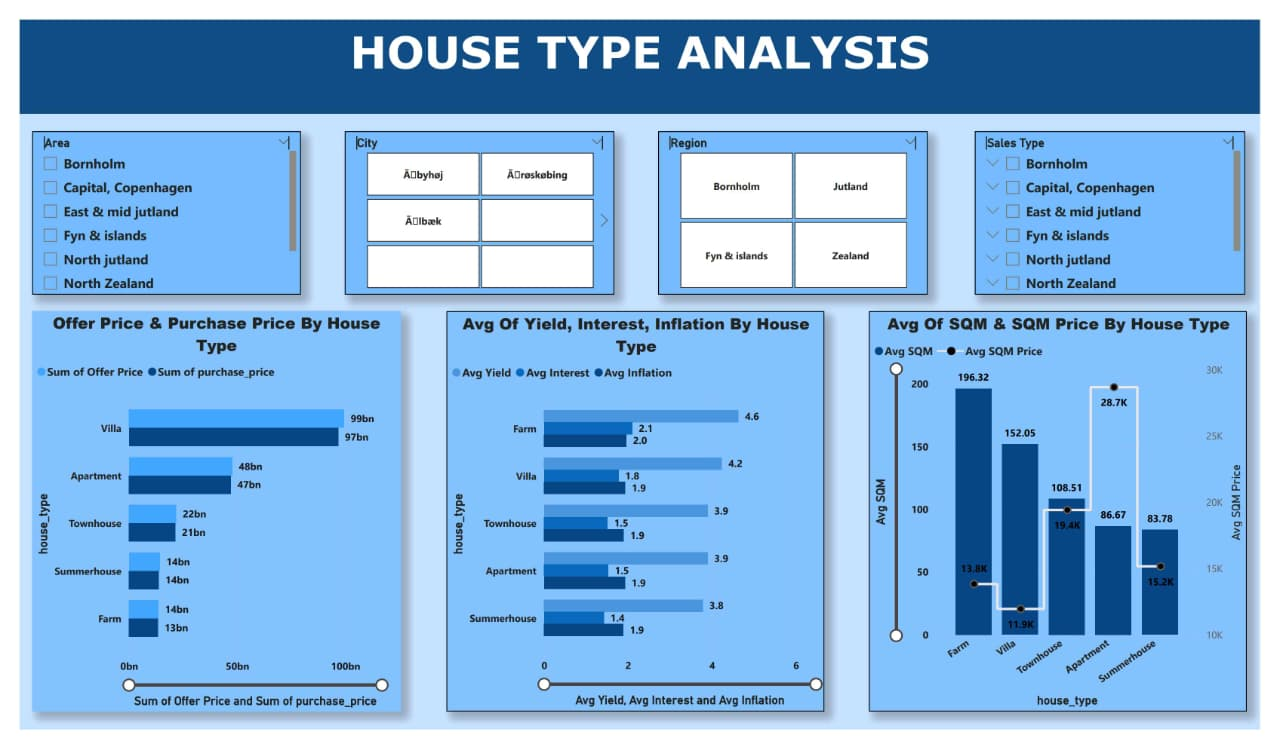

This screenshot's page, from the dashboard's own definition file:
{"tool":"powerbi","page":{"name":"House Type Analysis","canvas":[1500,860],"ordinal":2},"visuals":[{"type":"textbox","box":[0,0,1500,113.9],"z":0},{"type":"slicer","fields":{"Values":["Housing.area"]},"box":[14.6,135.4,325.7,197.6],"z":1000},{"type":"slicer","fields":{"Values":["Housing.city"]},"box":[393.4,135.4,325.7,197.6],"z":2000},{"type":"slicer","fields":{"Values":["Housing.region"]},"box":[772.2,135.4,325.7,197.6],"z":3000},{"type":"slicer","fields":{"Values":["Housing.area","Housing.sales_type"]},"box":[1154.6,135.4,327.5,197.6],"z":4000},{"type":"clusteredBarChart","title":"Offer Price & Purchase Price By House Type","fields":{"Y":["Sum(Housing.Offer Price)","Sum(Housing.purchase_price)"],"Category":["Housing.house_type"]},"box":[14.6,353.1,446.5,484.9],"z":5000},{"type":"clusteredBarChart","title":"Avg Of Yield, Interest, Inflation By House Type ","fields":{"Category":["Housing.house_type"],"Y":["Avg(Housing.yield_on_mortgage_credit_bonds%)","Avg(Housing.nom_interest_rate%)","Avg(Housing.dk_ann_infl_rate%)"]},"box":[516,353.1,457.4,484.9],"z":6000},{"type":"lineStackedColumnComboChart","title":"Avg Of SQM & SQM Price By House Type","fields":{"Category":["Housing.house_type"],"Y":["Sum(Housing.sqm)"],"Y2":["Sum(Housing.sqm_price)"]},"box":[1026.5,353.1,457.4,484.9],"z":7000}]}

Visuals, with their boxes in screenshot pixels (x1, y1, x2, y2), scaled from the page's 1500x860 canvas onto the 1280x750 screenshot:
textbox: 0:0:1279:99
slicer - Housing.area: 12:118:290:290
slicer - Housing.city: 336:118:614:290
slicer - Housing.region: 659:118:937:290
slicer - Housing.area x Housing.sales_type: 985:118:1265:290
"Offer Price & Purchase Price By House Type" clusteredBarChart: 12:308:393:731
"Avg Of Yield, Interest, Inflation By House Type " clusteredBarChart: 440:308:831:731
"Avg Of SQM & SQM Price By House Type" lineStackedColumnComboChart: 876:308:1266:731
